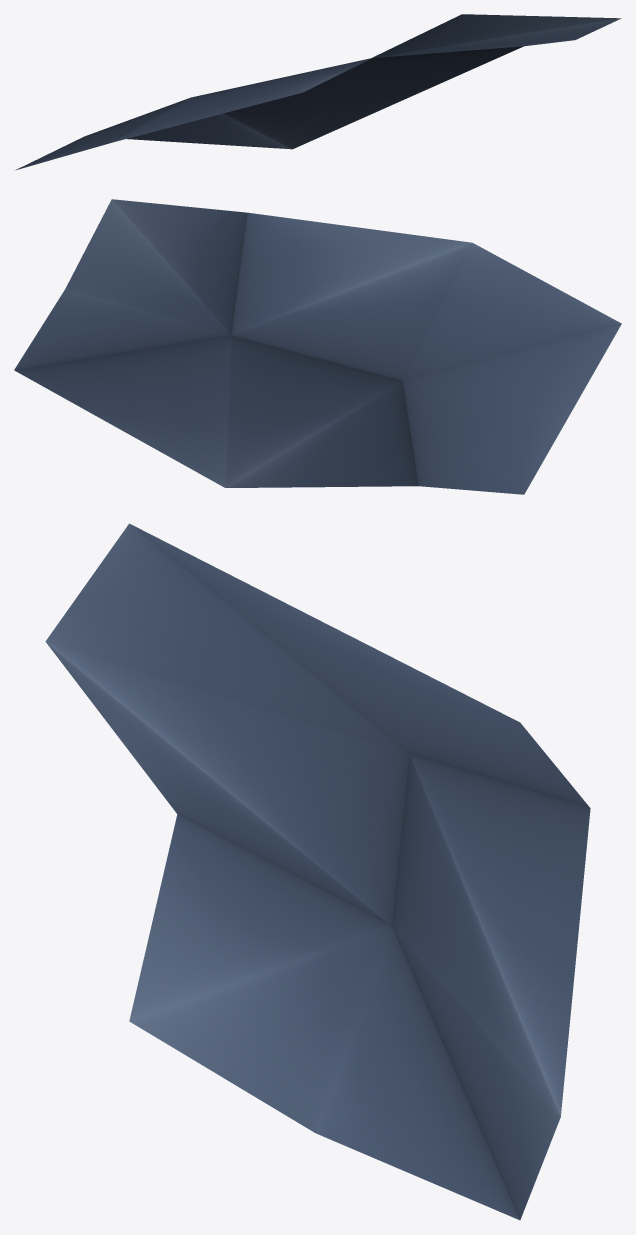
Rendered from SM_Ceiling_Edge_C_A.fbx.
The picture shows the model from 3 angles, top to bottom: view 1: azimuth 30°, elevation 25°; view 2: azimuth 150°, elevation 25°; view 3: azimuth 270°, elevation 25°; orthographic projection. The views are drawn at different scales.
Parts seen in each view (by area): view 1: pCube200; view 2: pCube200; view 3: pCube200.
Boxes of the visible parts, x1,y1,x2,y2 form: pCube200: (15, 14, 621, 170); pCube200: (14, 199, 621, 494); pCube200: (45, 523, 590, 1220).
Bounding box in the file's own units: 1 × 0.3509 × 0.4626.
